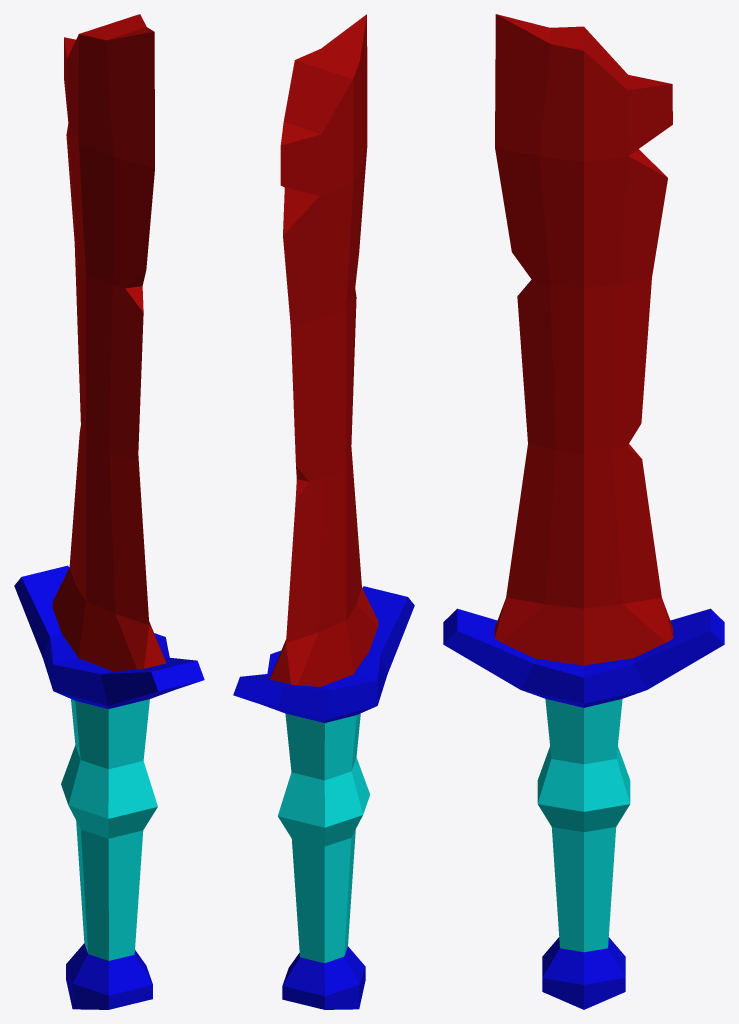
File: Sword_Common_Broken.fbx
3 views of the same model, side by side, from view 1: azimuth 30°, elevation 25°; view 2: azimuth 150°, elevation 25°; view 3: azimuth 270°, elevation 25° (orthographic). The views are drawn at different scales.
Parts seen in each view (by area): view 1: SM_Wep_BrokenSword_01; view 2: SM_Wep_BrokenSword_01; view 3: SM_Wep_BrokenSword_01.
Boxes of the visible parts, x1,y1,x2,y2 form: SM_Wep_BrokenSword_01: [14, 14, 204, 1009]; SM_Wep_BrokenSword_01: [233, 14, 414, 1009]; SM_Wep_BrokenSword_01: [443, 14, 724, 1009].
Size of the model in its own units: 0.0877 by 0.7455 by 0.1945.
